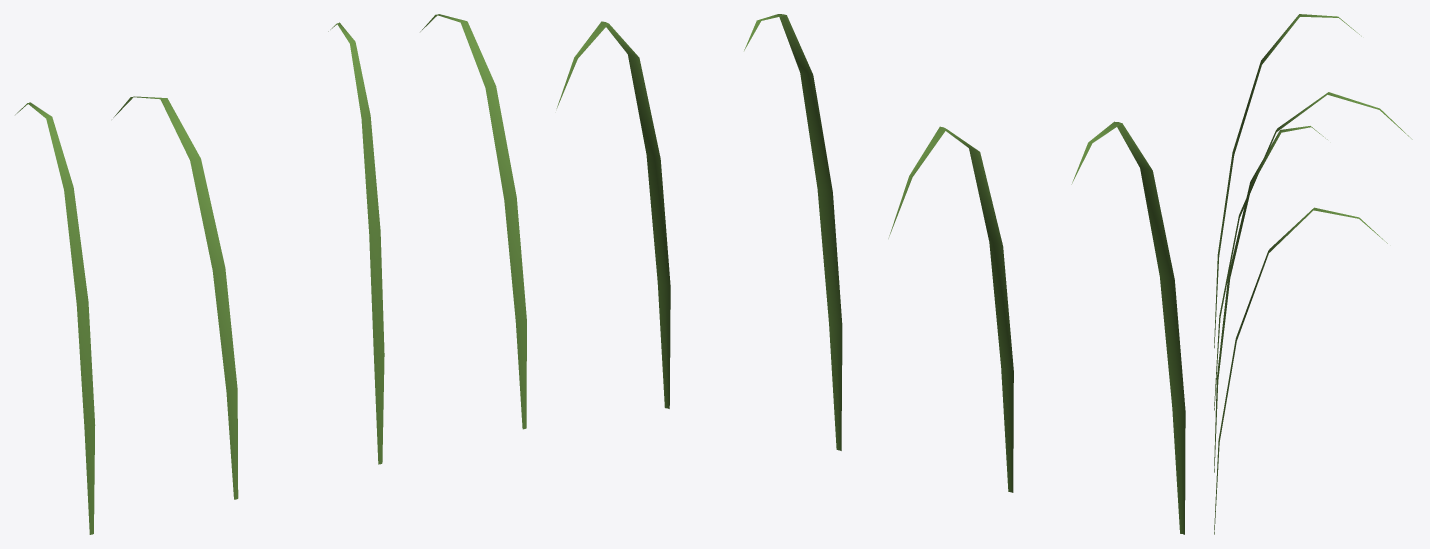
The model's file is meadow-leaves-v01.fbx.
The picture shows the model from 3 angles, left to right: view 1: azimuth 30°, elevation 25°; view 2: azimuth 150°, elevation 25°; view 3: azimuth 270°, elevation 25°; orthographic projection. The views are drawn at different scales.
Parts seen in each view (by area): view 1: Leaf_profile_03, Leaf_profile_01, Leaf_profile_00, Leaf_profile_02; view 2: Leaf_profile_02, Leaf_profile_00, Leaf_profile_03, Leaf_profile_01; view 3: Leaf_profile_02, Leaf_profile_00, Leaf_profile_03, Leaf_profile_01.
Part boxes in pixels (x1=…): Leaf_profile_03: x1=420, y1=14, x2=526, y2=429; Leaf_profile_01: x1=113, y1=96, x2=238, y2=499; Leaf_profile_00: x1=15, y1=102, x2=95, y2=534; Leaf_profile_02: x1=328, y1=22, x2=384, y2=464; Leaf_profile_02: x1=744, y1=14, x2=842, y2=450; Leaf_profile_00: x1=1071, y1=121, x2=1185, y2=534; Leaf_profile_03: x1=556, y1=21, x2=670, y2=408; Leaf_profile_01: x1=888, y1=126, x2=1013, y2=492; Leaf_profile_02: x1=1214, y1=126, x2=1327, y2=472; Leaf_profile_00: x1=1214, y1=14, x2=1361, y2=348; Leaf_profile_03: x1=1214, y1=207, x2=1387, y2=534; Leaf_profile_01: x1=1214, y1=92, x2=1412, y2=410.
Bounding box in the file's own units: 107 × 92.28 × 48.12.
